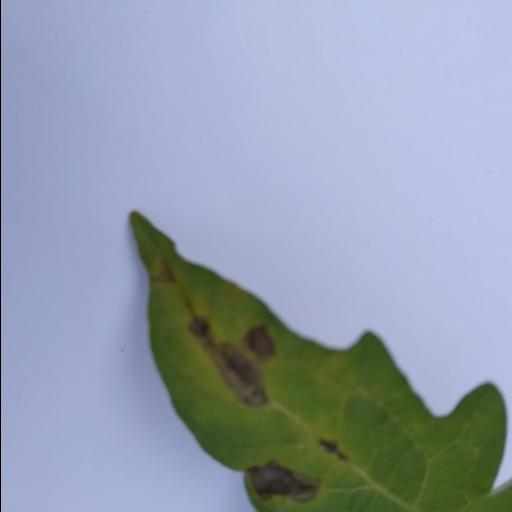disease_tomato: (125, 211, 512, 512)
